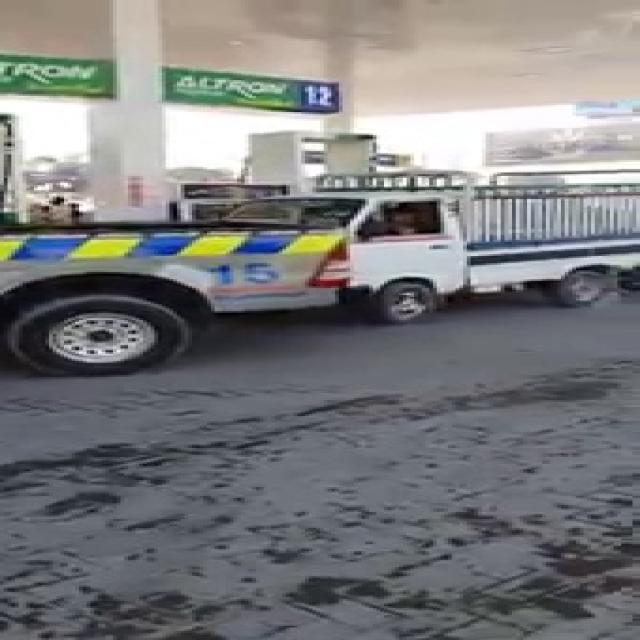police: (0, 212, 347, 364)
